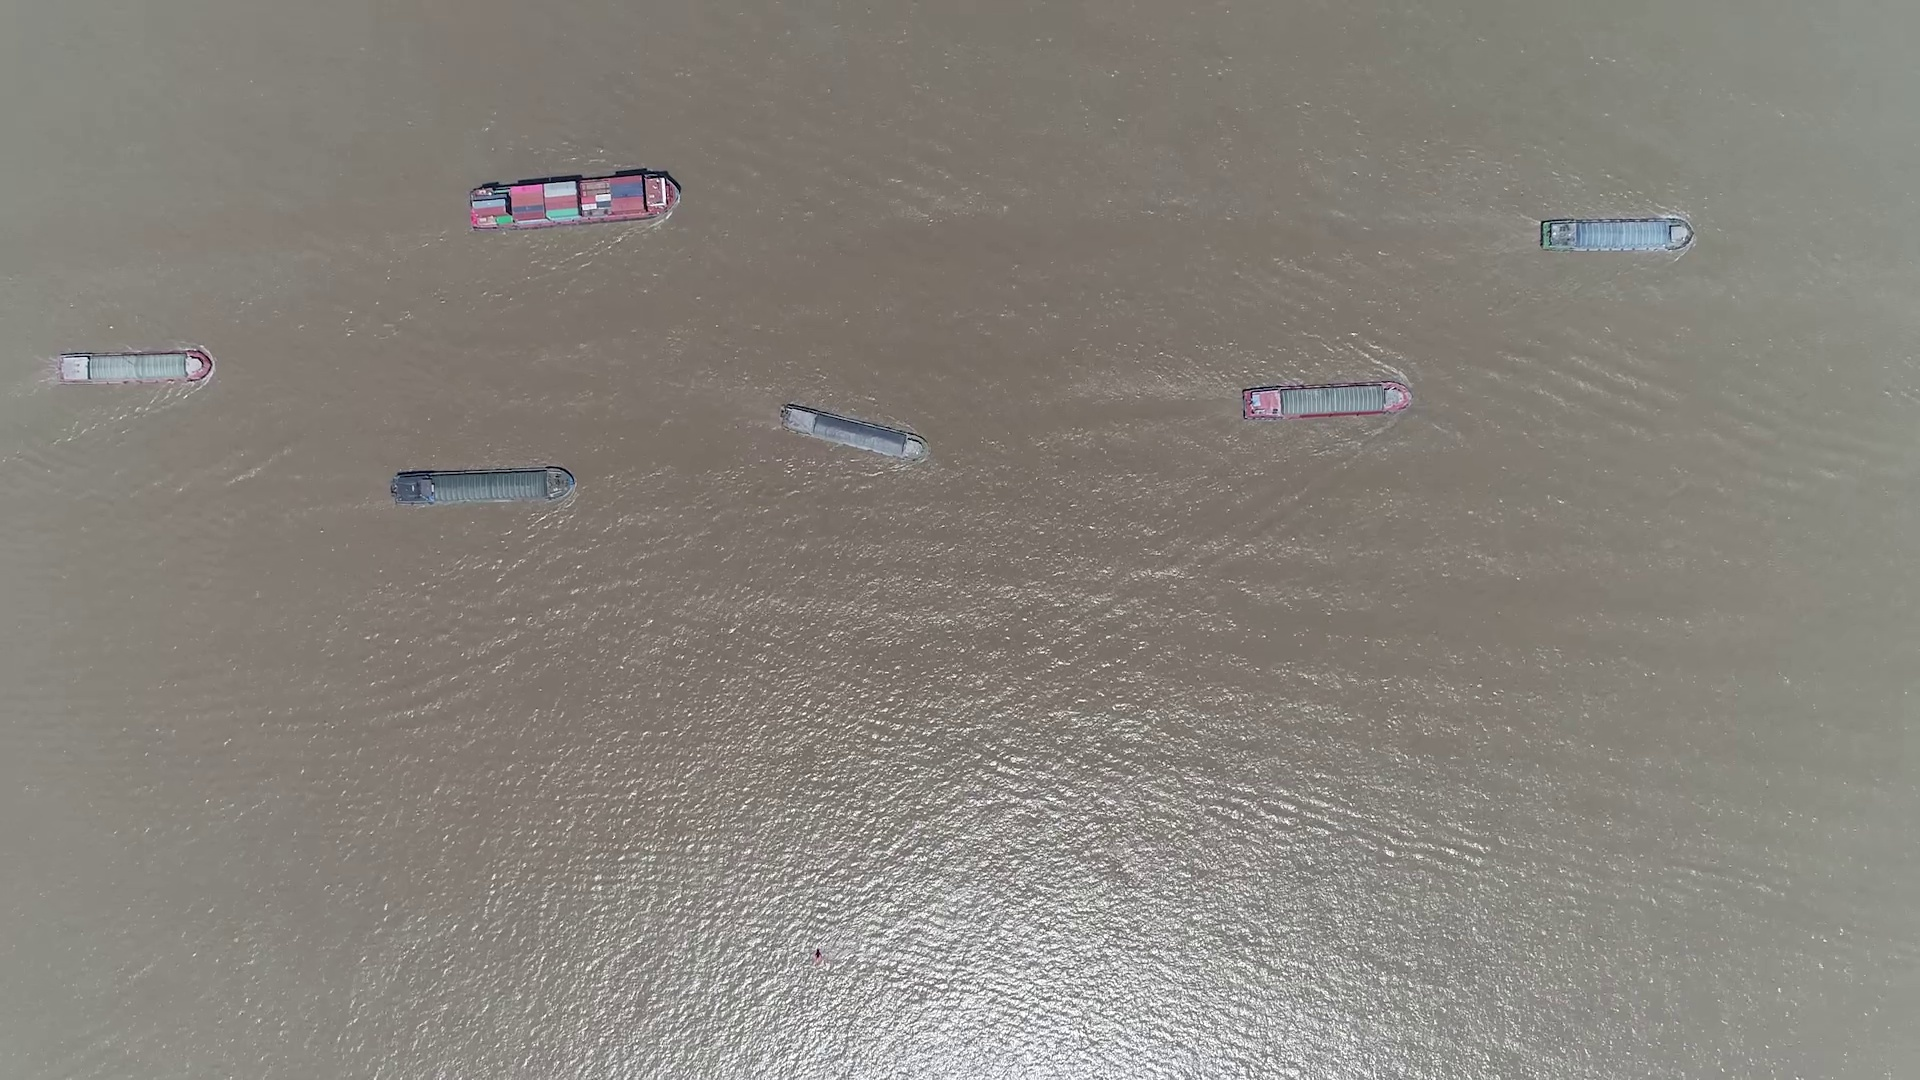ship: (468, 171, 678, 229), (777, 404, 926, 462), (388, 468, 575, 506), (1242, 380, 1410, 419), (51, 351, 211, 384), (1542, 219, 1692, 252)
